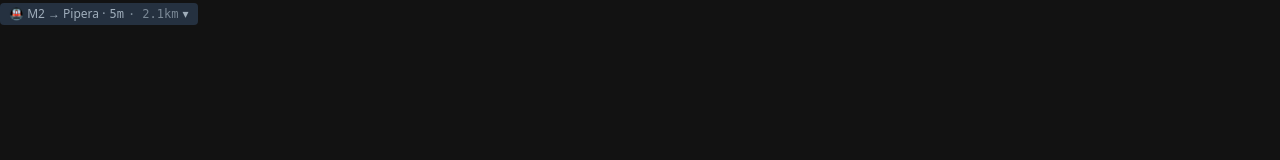
StepChip › a ride opens to what to board and where to get off, with a maps hand-off
Click the button with aria-label "M2 → Pipera — details".
click(99, 12)  # box [0, 1, 198, 23]
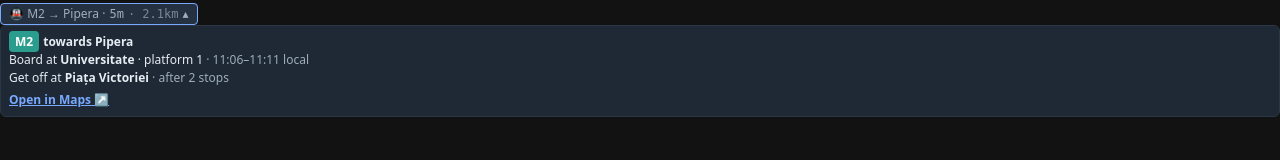
Now the element named "M2 → Pipera details" shows "towards Pipera", box [0, 25, 1279, 117]
